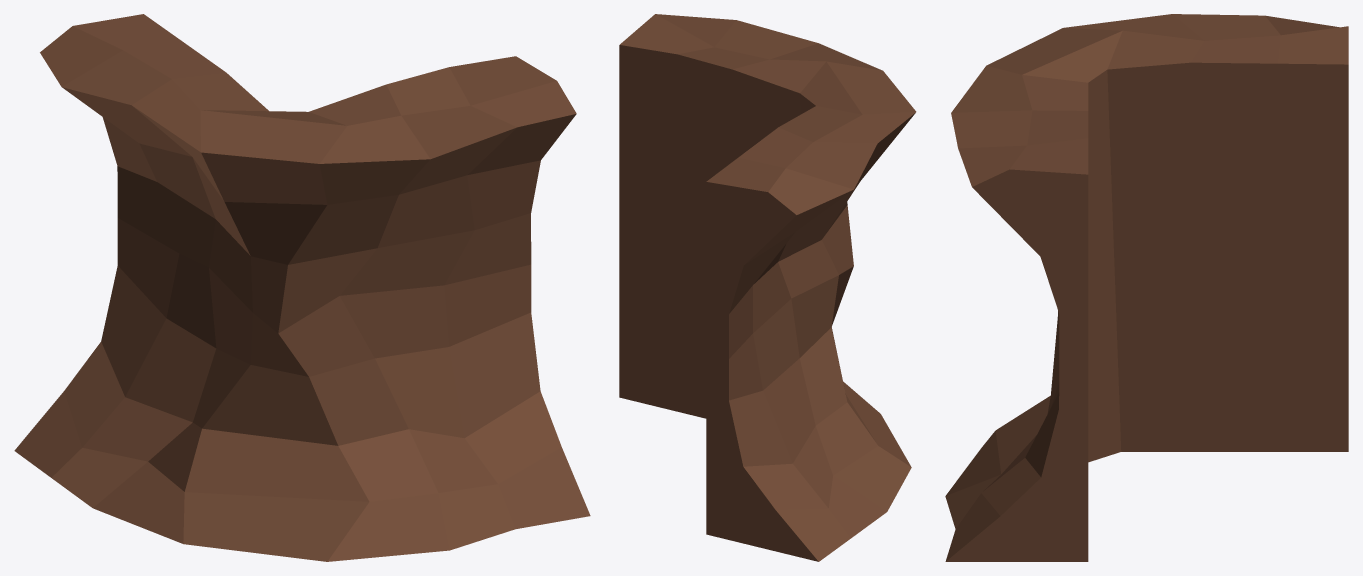
The model's file is CaveWallRoundInvertSmall.fbx.
The picture shows the model from 3 angles, left to right: view 1: azimuth 30°, elevation 25°; view 2: azimuth 150°, elevation 25°; view 3: azimuth 270°, elevation 25°; orthographic projection. The views are drawn at different scales.
Parts seen in each view (by area): view 1: CaveWallRoundInvertSmall; view 2: CaveWallRoundInvertSmall; view 3: CaveWallRoundInvertSmall.
Part boxes in pixels (bbox=[...]): CaveWallRoundInvertSmall: bbox=[14, 14, 590, 561]; CaveWallRoundInvertSmall: bbox=[619, 14, 916, 561]; CaveWallRoundInvertSmall: bbox=[945, 14, 1348, 561].
Size of the model in its own units: 331 by 355 by 331.
1 material, 1 textured.
